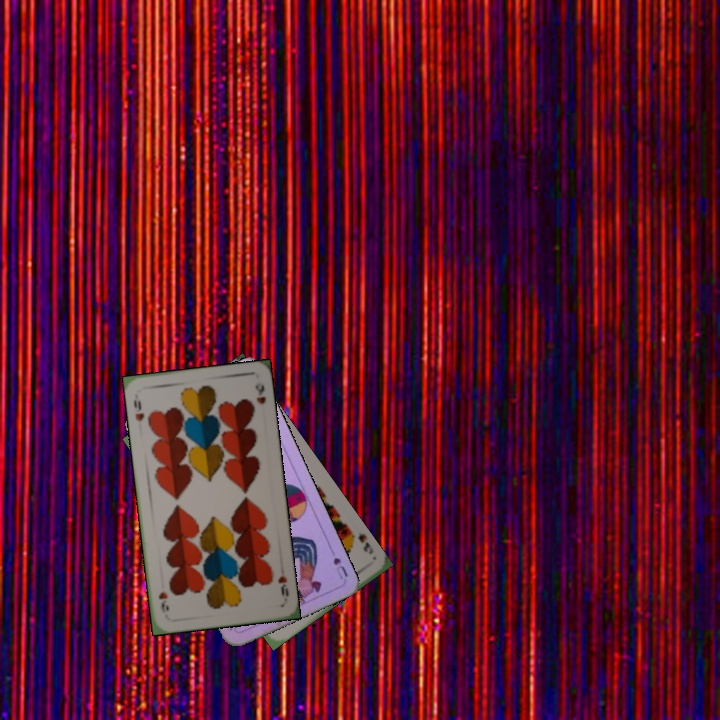H9: (130, 396, 147, 424), (274, 572, 291, 599)
S9: (348, 528, 376, 557)
SU: (325, 543, 351, 581)
